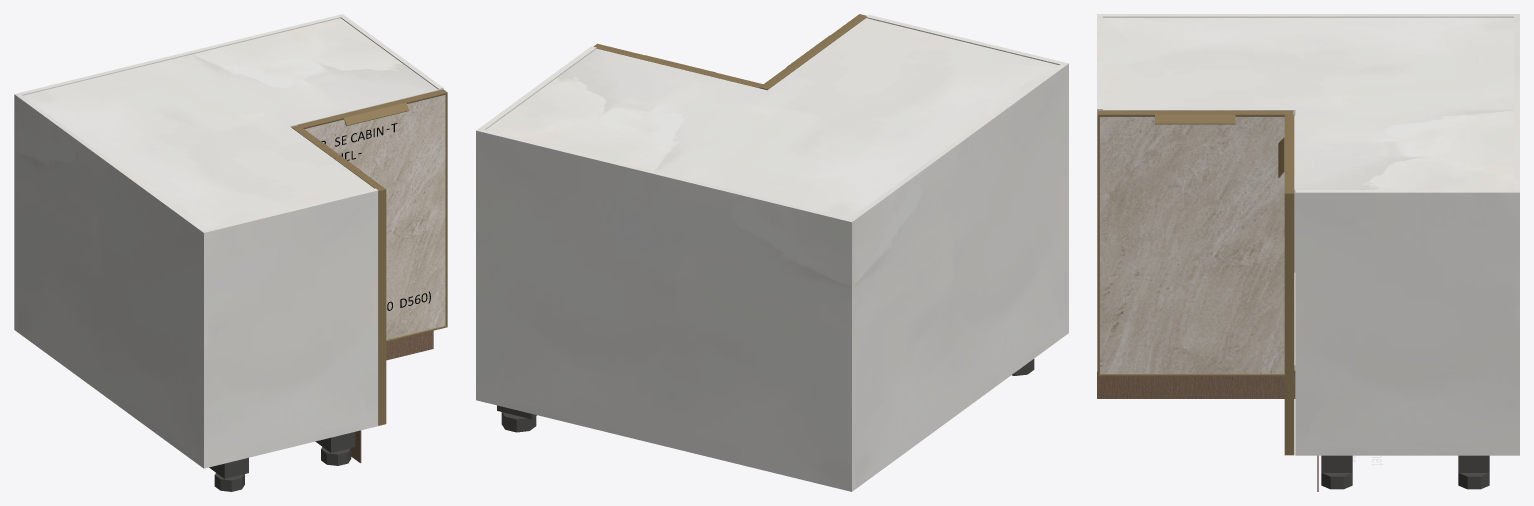
Rendered from BLC-SH-TTS-ST-1SX-XXX-1050-720-560-15.glb.
The picture shows the model from 3 angles, left to right: view 1: azimuth 30°, elevation 25°; view 2: azimuth 150°, elevation 25°; view 3: azimuth 270°, elevation 25°; orthographic projection. The views are drawn at different scales.
Parts seen in each view (by area): view 1: TP, TP_node_0, TP_node_2, Object_node_11, Extrusion_node_11, TP_node_1, Object_node_15, ExtrSplGeo, Extrusion_node_2, TP_node, Extrusion_node, Plate (+1 smaller); view 2: TP_node_1, TP, TP_node_0, TP_node, TP_node_2; view 3: TP_node, TP, Object_node_13, Object_node_17, Extrusion_node_2, TP_node_0, ExtrSplGeo_node, TP_node_1, TP_node_2, Extrusion_node_11, ExtrSplGeo, Plate_node_0 (+5 smaller).
Boxes of the visible parts, x1=… form: TP: x1=23, y1=18, x2=438, y2=229; TP_node_0: x1=17, y1=95, x2=205, y2=466; TP_node_2: x1=201, y1=188, x2=378, y2=468; Object_node_11: x1=304, y1=94, x2=445, y2=339; Extrusion_node_11: x1=378, y1=189, x2=386, y2=425; TP_node_1: x1=14, y1=15, x2=340, y2=331; Object_node_15: x1=386, y1=330, x2=433, y2=360; ExtrSplGeo: x1=340, y1=99, x2=408, y2=125; Extrusion_node_2: x1=445, y1=93, x2=447, y2=326; TP_node: x1=338, y1=14, x2=443, y2=90; Extrusion_node: x1=298, y1=89, x2=447, y2=128; Plate: x1=315, y1=432, x2=355, y2=452; TP_node_1: x1=481, y1=129, x2=854, y2=491; TP: x1=486, y1=18, x2=1058, y2=218; TP_node_0: x1=850, y1=64, x2=1065, y2=489; TP_node: x1=476, y1=46, x2=596, y2=401; TP_node_2: x1=866, y1=14, x2=1068, y2=334; TP_node: x1=1295, y1=190, x2=1519, y2=455; TP: x1=1103, y1=17, x2=1513, y2=189; Object_node_13: x1=1100, y1=116, x2=1284, y2=373; Object_node_17: x1=1097, y1=370, x2=1295, y2=398; Extrusion_node_2: x1=1284, y1=193, x2=1294, y2=455; TP_node_0: x1=1103, y1=14, x2=1513, y2=272; ExtrSplGeo_node: x1=1155, y1=110, x2=1235, y2=124; TP_node_1: x1=1514, y1=14, x2=1519, y2=189; TP_node_2: x1=1097, y1=14, x2=1102, y2=371; Extrusion_node_11: x1=1097, y1=115, x2=1099, y2=375; ExtrSplGeo: x1=1278, y1=137, x2=1294, y2=178; Plate_node_0: x1=1458, y1=455, x2=1489, y2=472.
Size of what is drawn, in the model's own units: 1.05 by 0.82 by 1.05.
7 materials, 3 textured.
